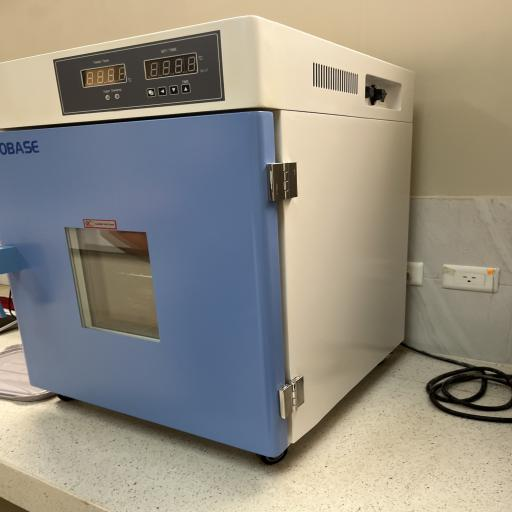Horno_Secado_Biobase: (2, 9, 447, 474)
